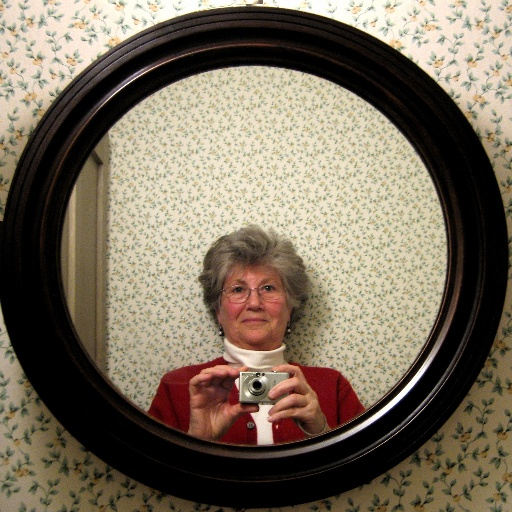hand: (187, 363, 259, 442), (272, 370, 324, 441)
